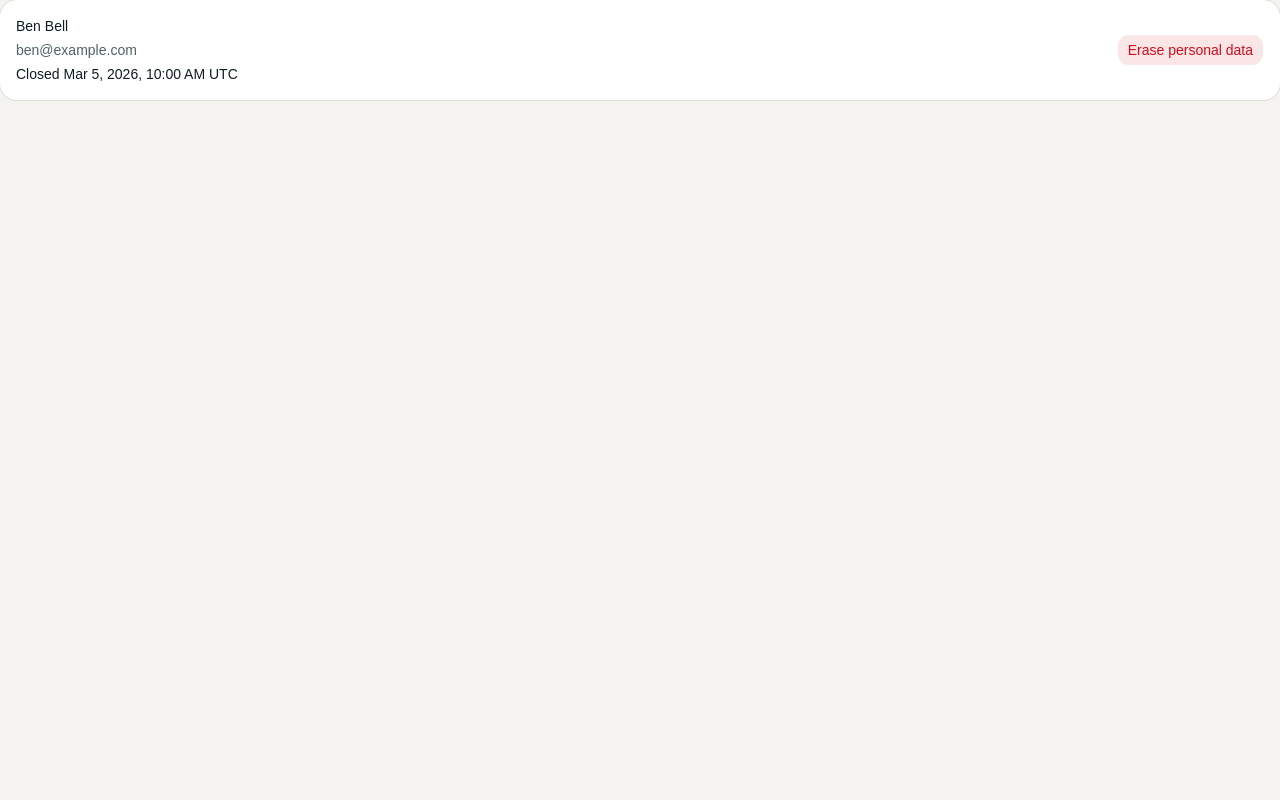
it: MembersAdminPage › erases a closed member only after an irreversible-action confirmation
The image size is (1280, 800).
Click the button with aria-label "Erase the personal data of Ben": click(1190, 50) [1117,34,1264,66]
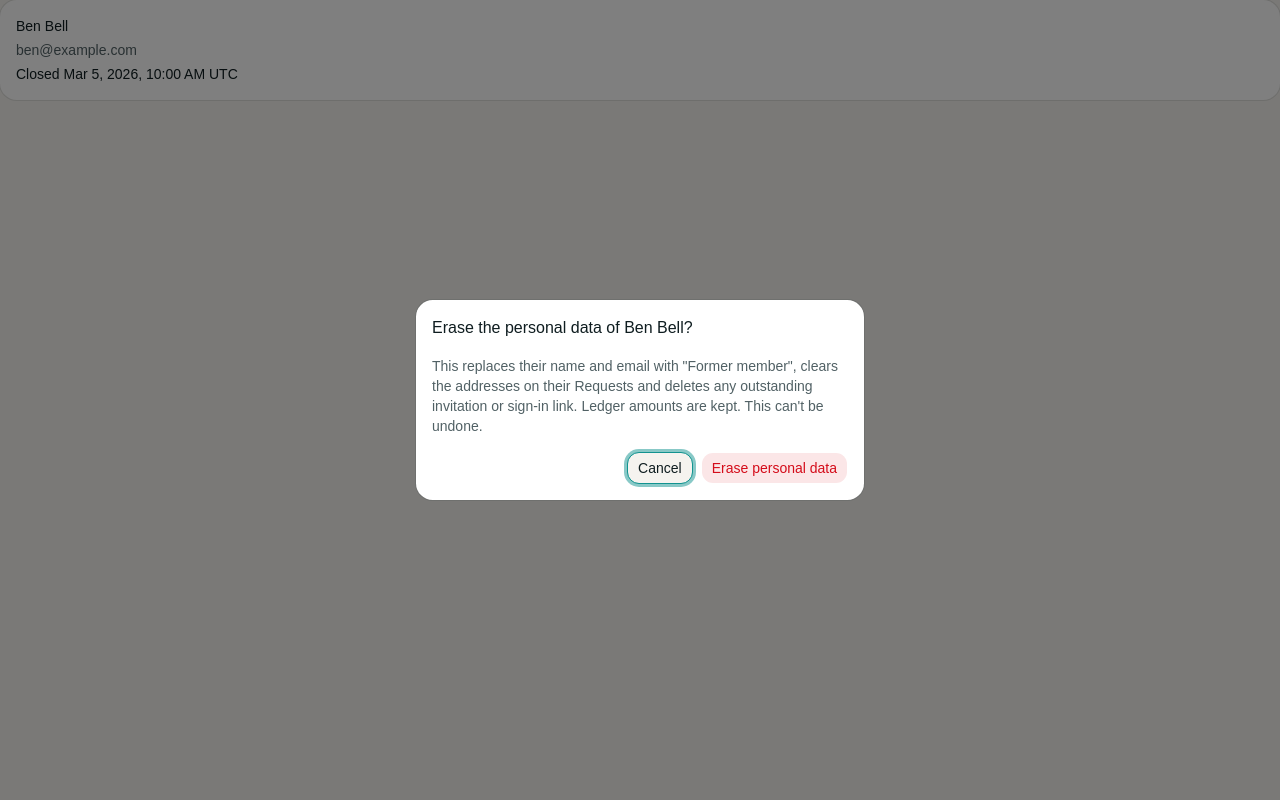
Check: the dialog shows "This can't be undone.", box [432,358,838,434]
Click the button "Erase personal data": click(774, 468) [701,452,848,484]
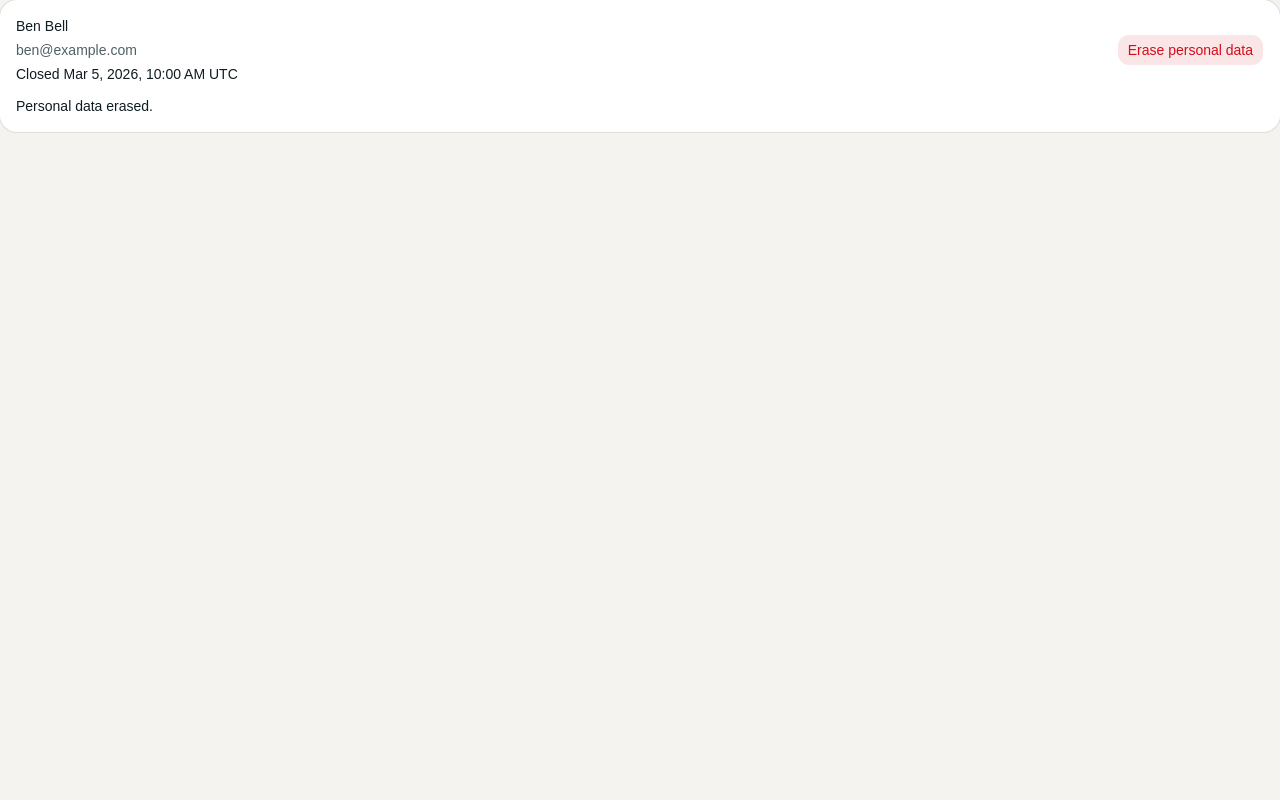
Check: the message reads "Personal data erased.", box [16,98,153,114]
